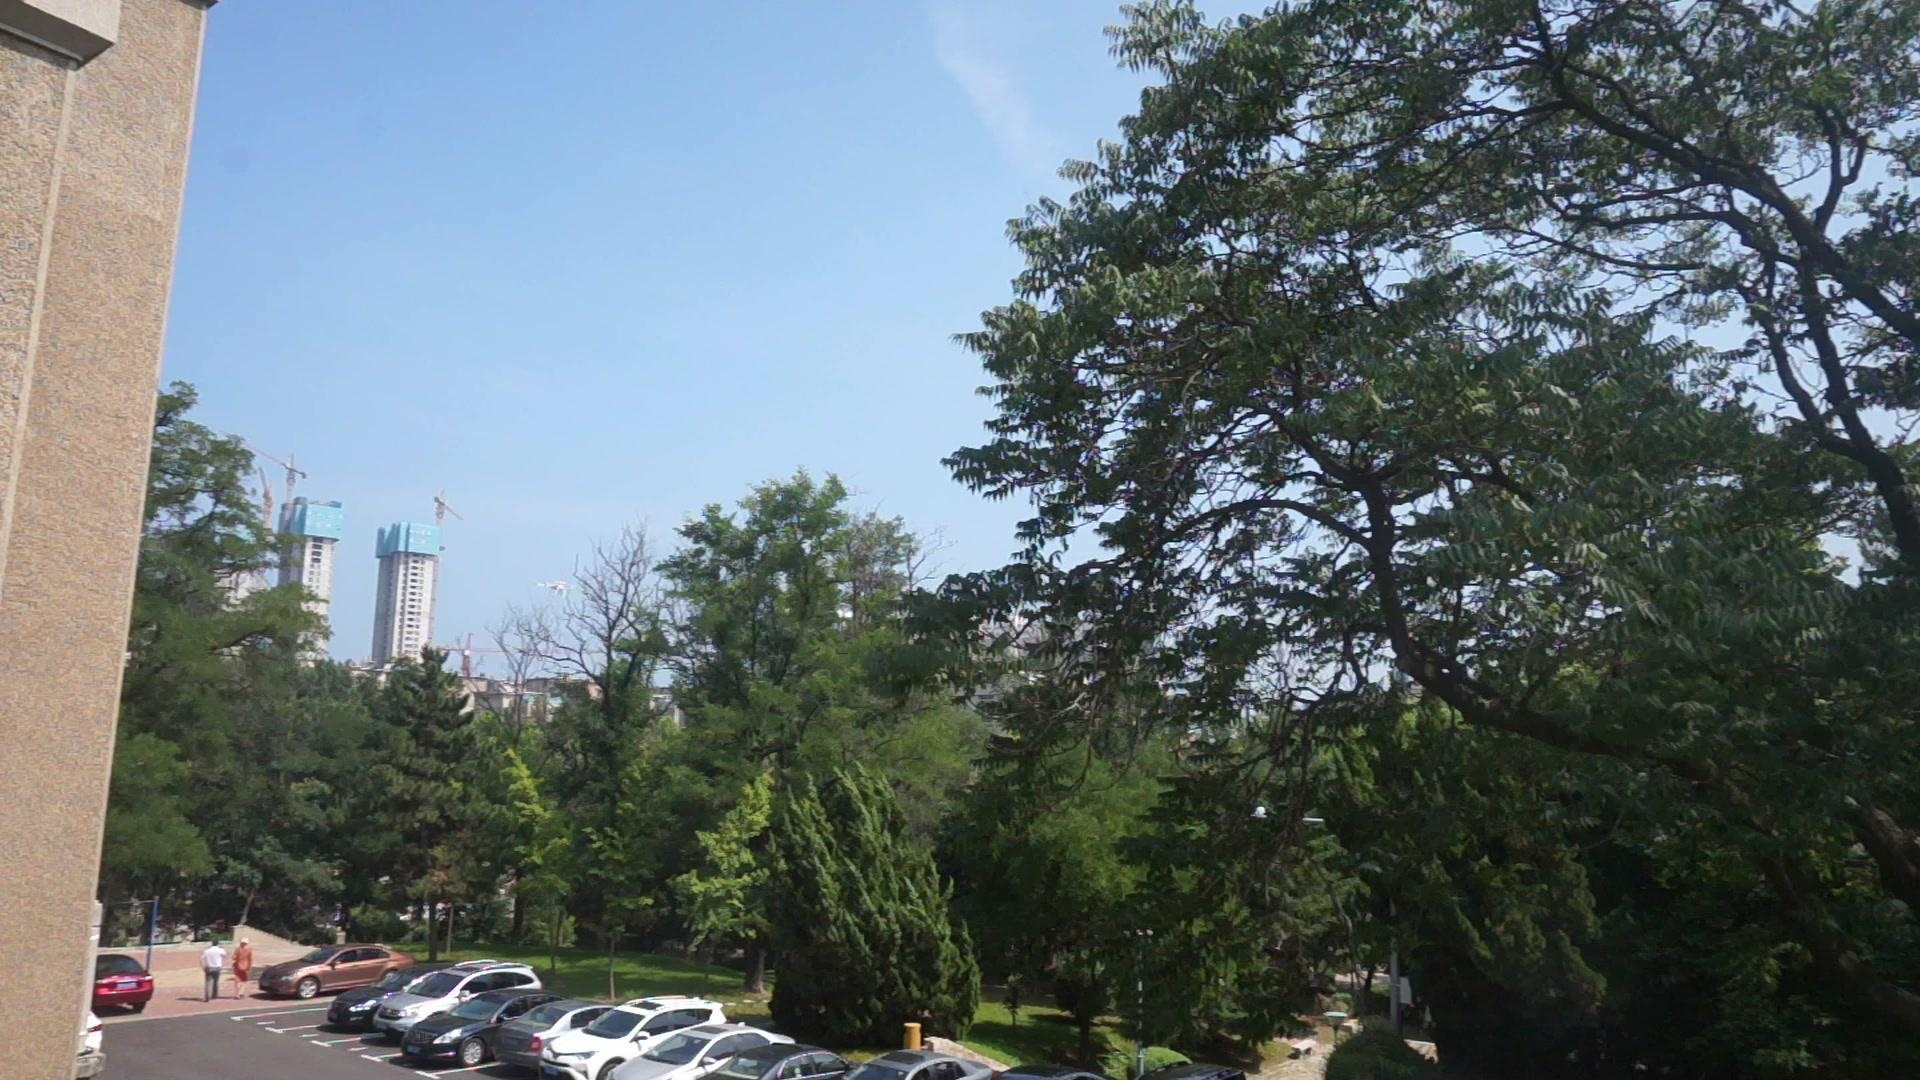UAV: (538, 582, 575, 597)
